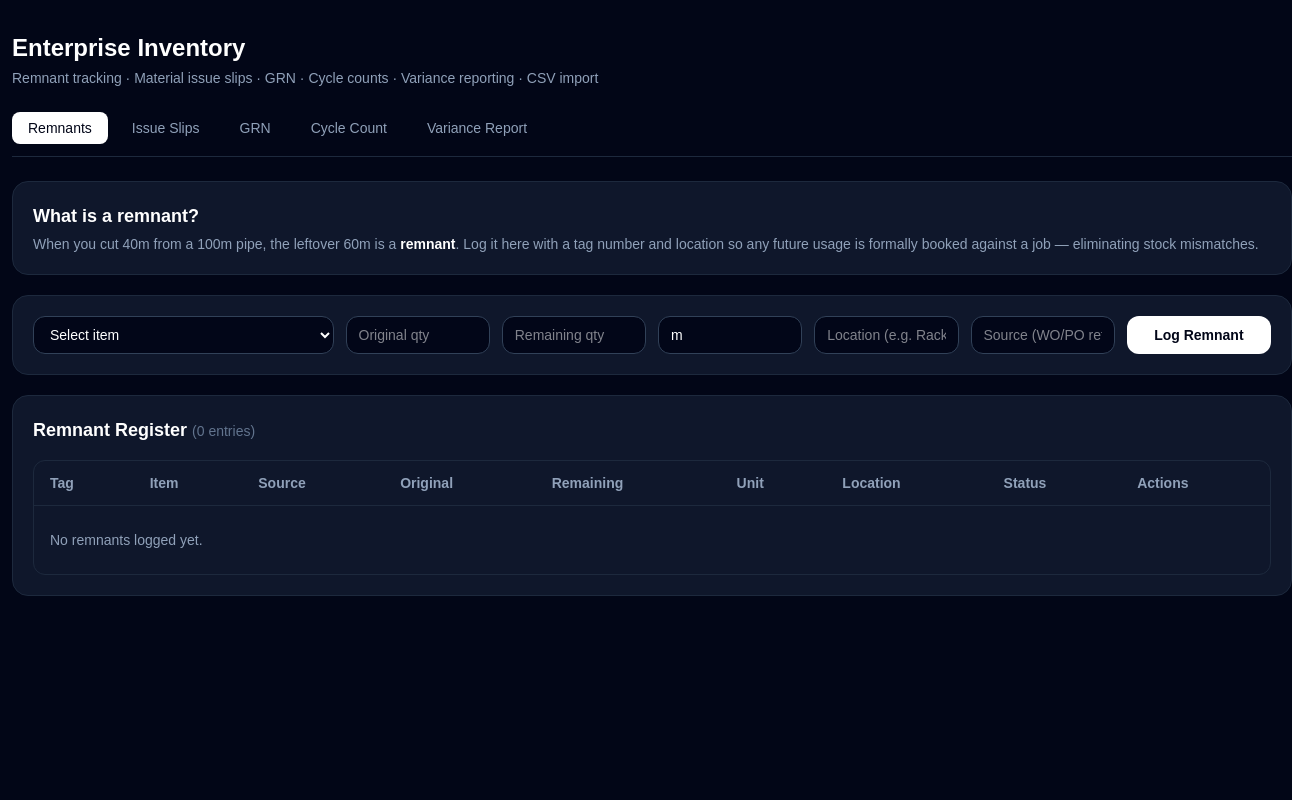
Test: GRN form — the quantities decide the inspection result › says why a refused line was refused, and gives the button back
Step 1. Click the button "GRN" → [255, 128], box x1=224 y1=112 x2=287 y2=144
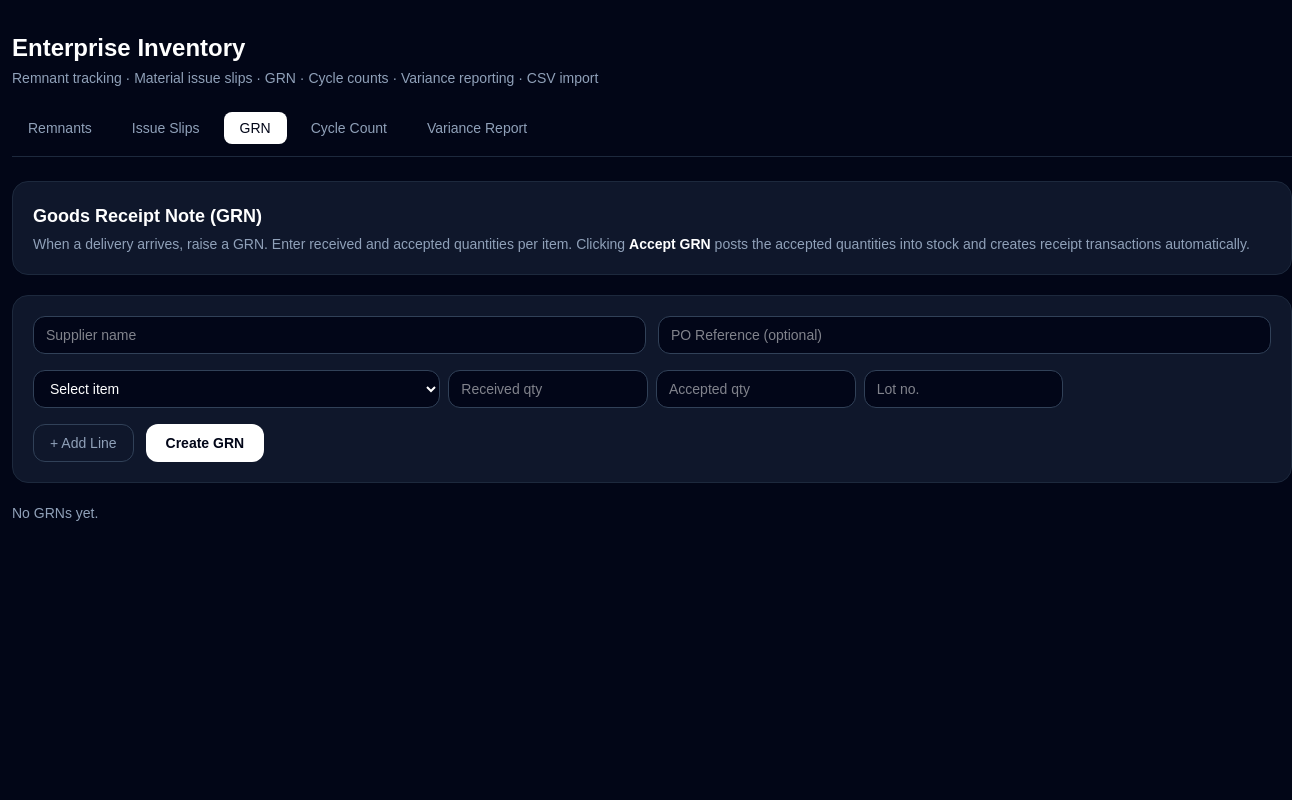
Step 2. Type "Acme" into the field with placeholder "Supplier name" → [340, 335], box x1=33 y1=316 x2=646 y2=354
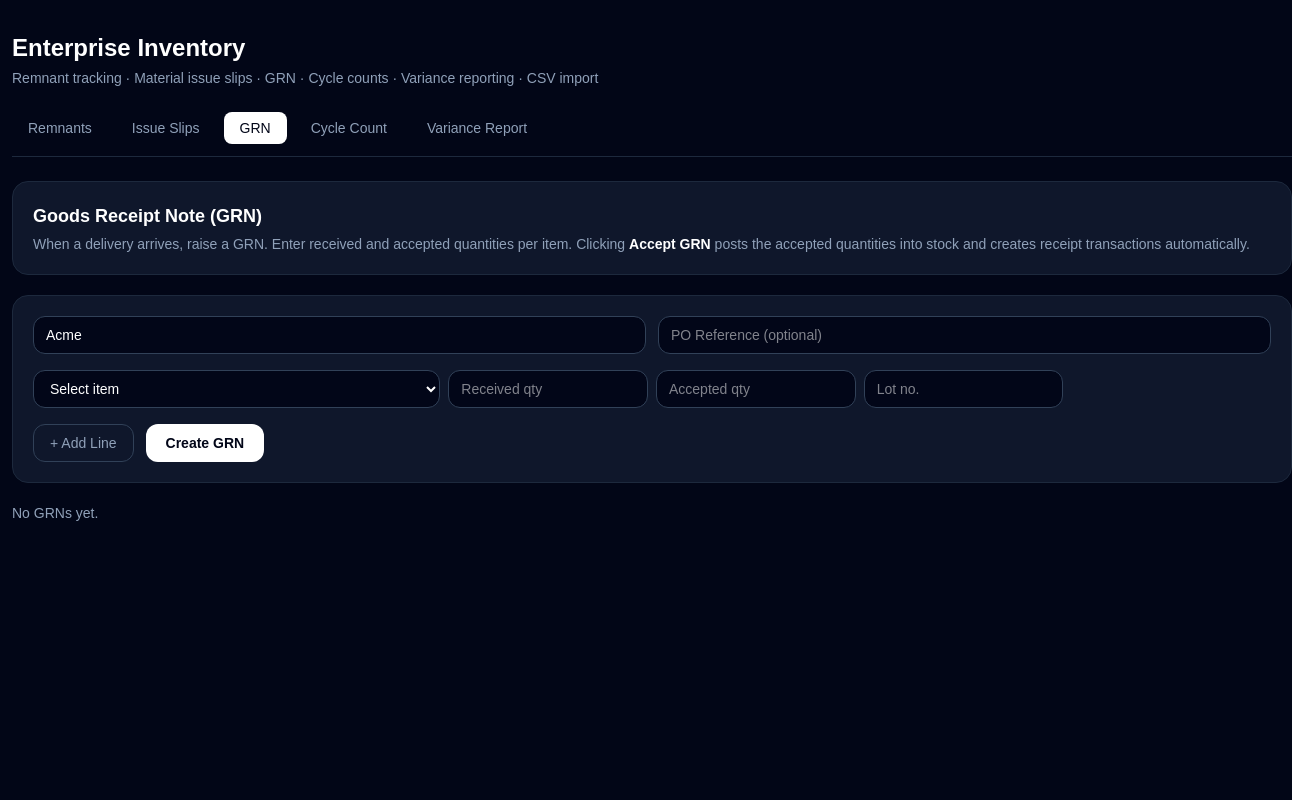
Step 3. Select "BOLT-M8 – Bolt M8" in the dropdown → [237, 389], box x1=33 y1=370 x2=440 y2=408
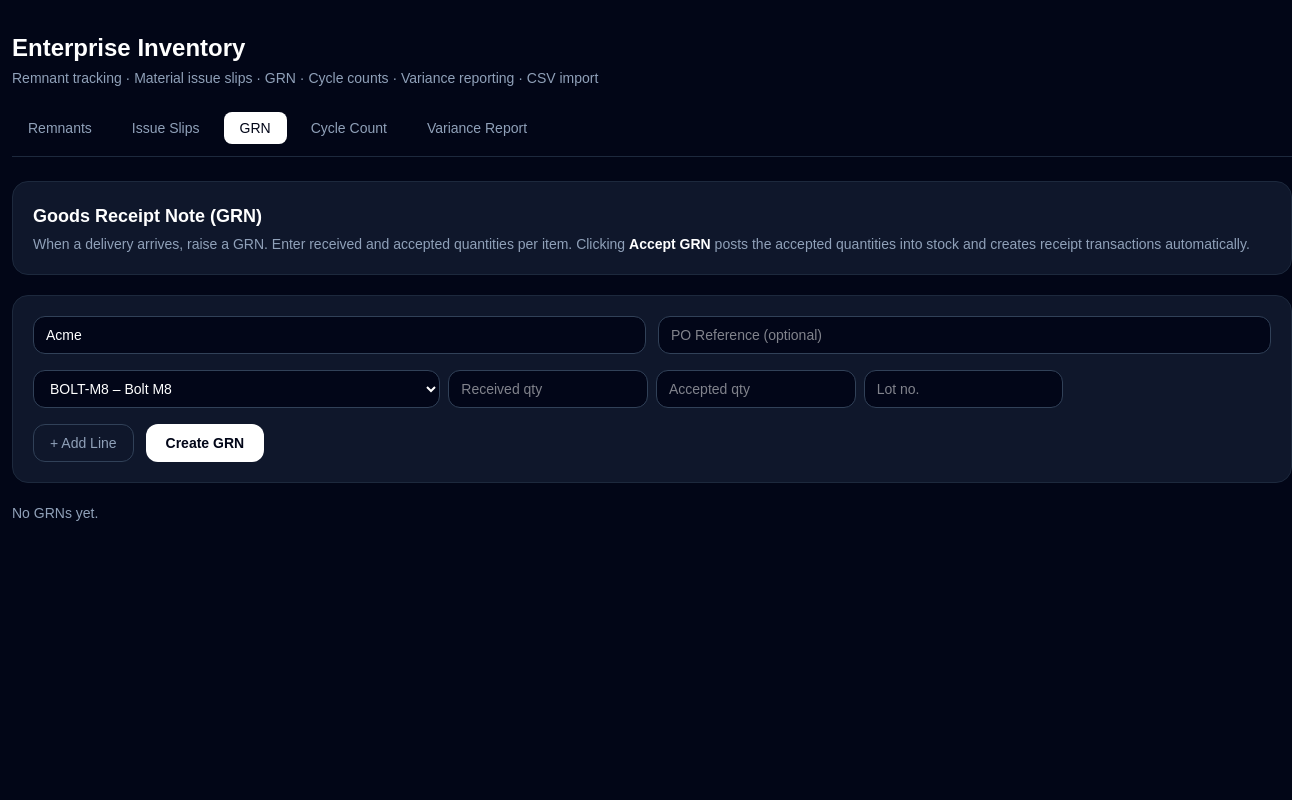
Step 4. Type "10" into the number field with placeholder "Received qty" → [548, 389], box x1=448 y1=370 x2=648 y2=408
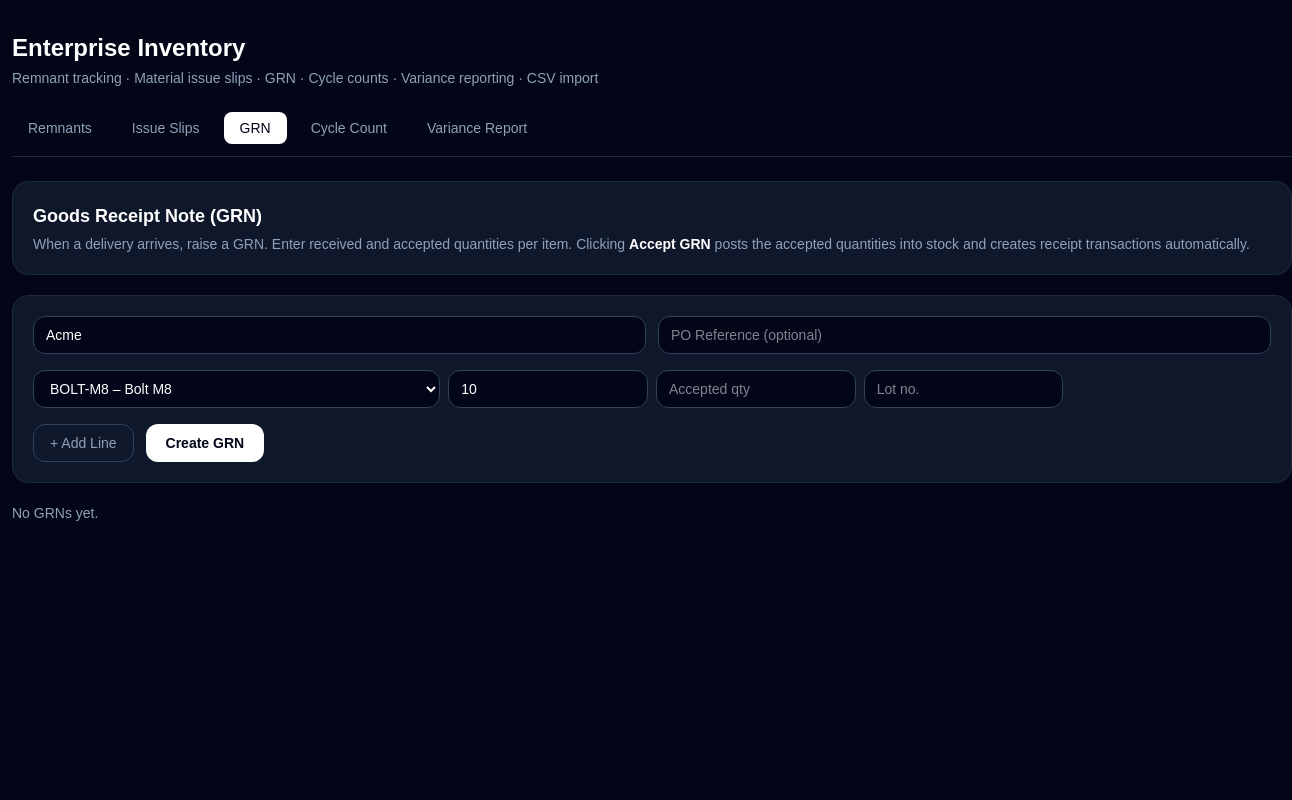
Step 5. Type "12" into the number field with placeholder "Accepted qty" → [756, 389], box x1=656 y1=370 x2=856 y2=408
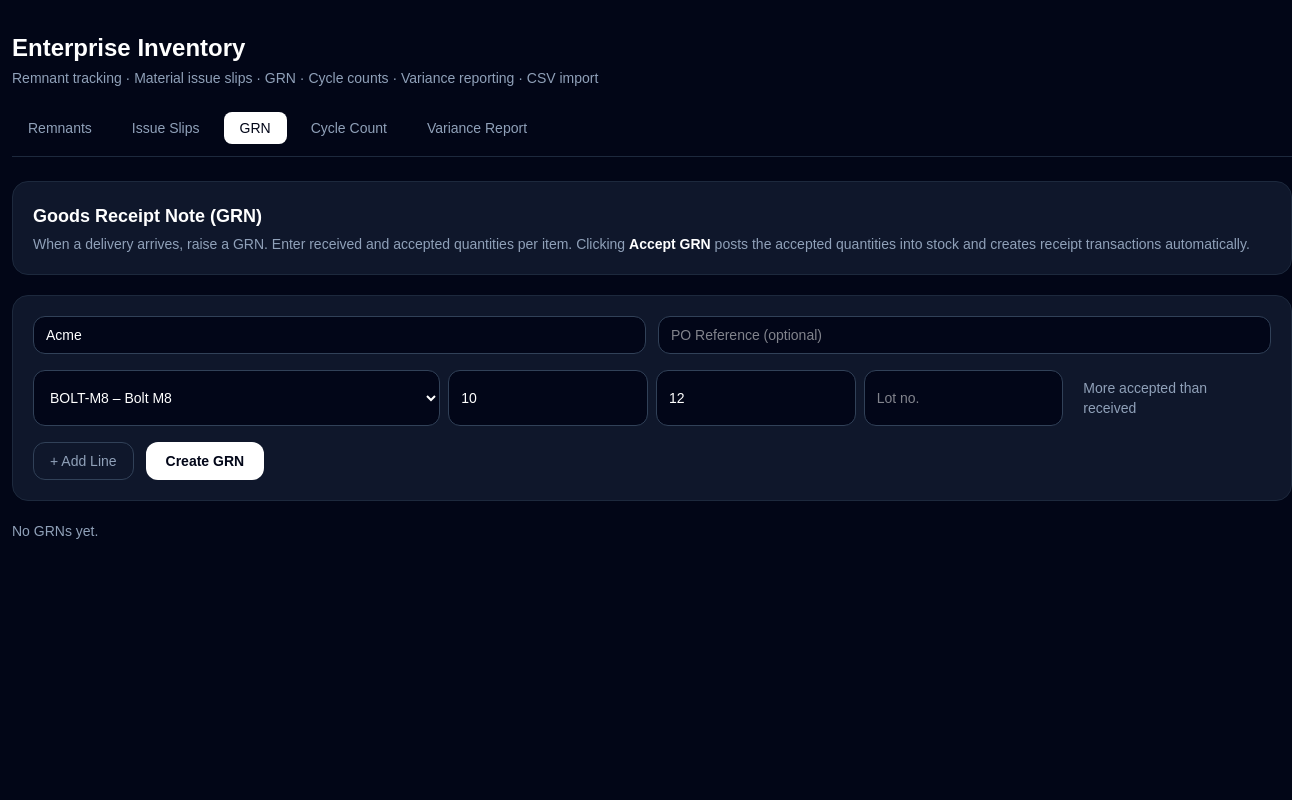
Step 6. Submit the form with placeholder "Supplier name", box x1=12 y1=295 x2=1291 y2=501
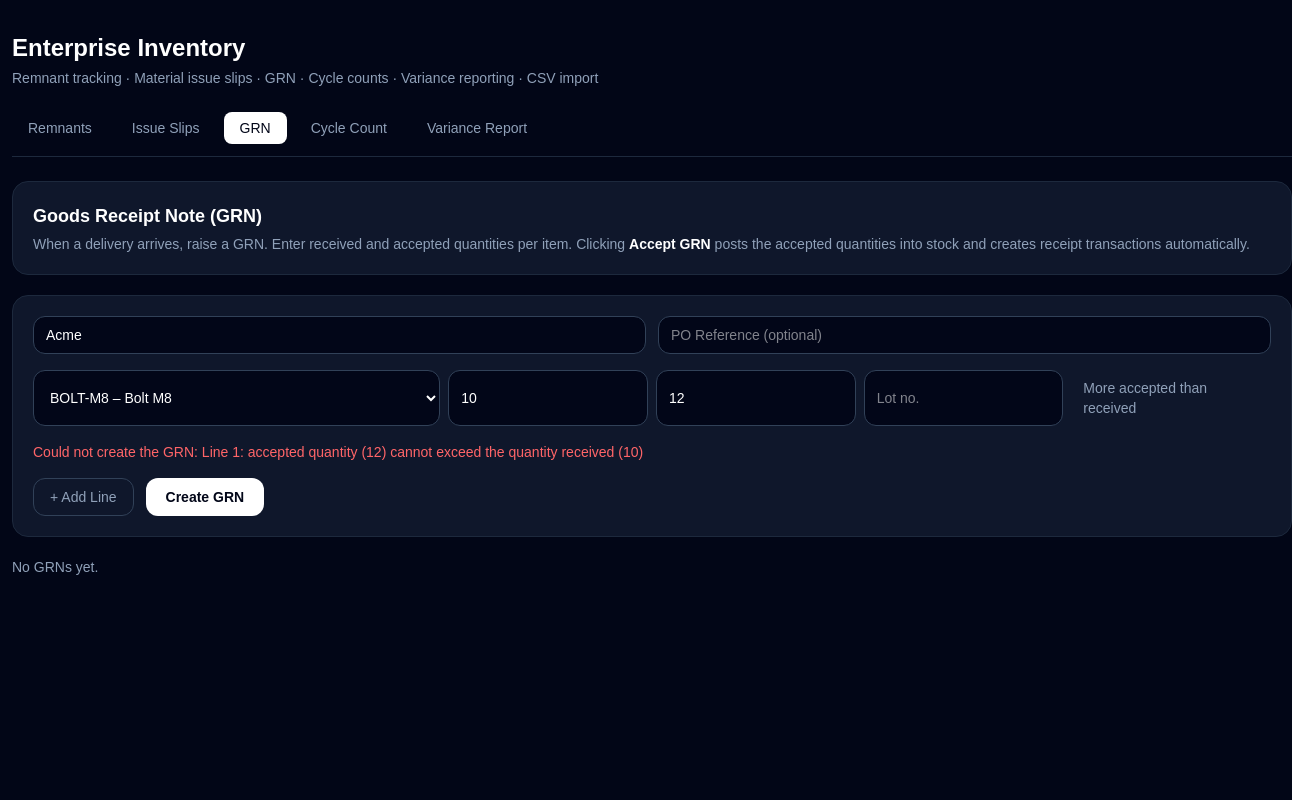
Check: the button "Create GRN" is shown, box x1=146 y1=478 x2=264 y2=516
Check: the message shows "cannot exceed the quantity received", box x1=33 y1=444 x2=643 y2=460
